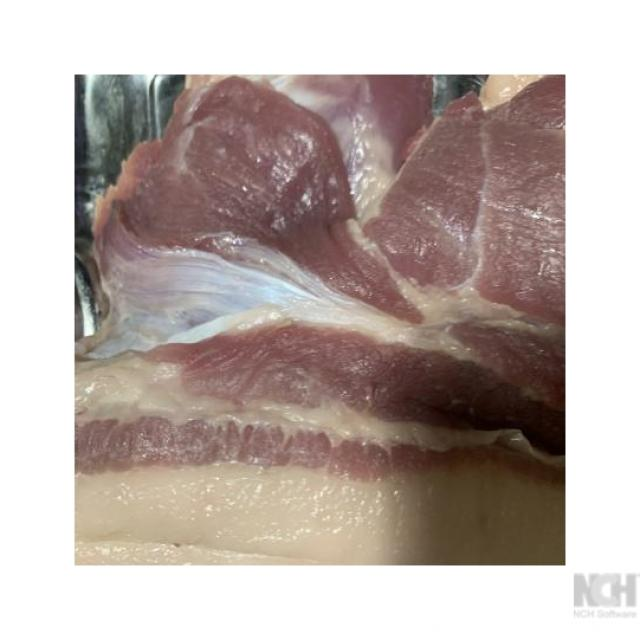rotten meat: (44, 46, 580, 571)
